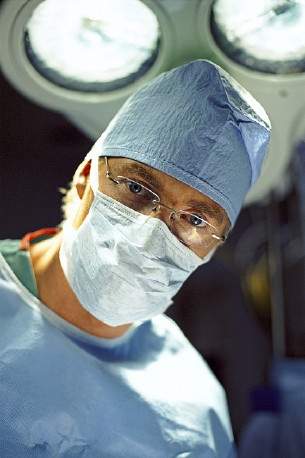Mask: (60, 152, 236, 328)
